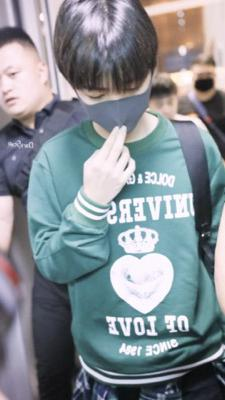with_mask: (77, 76, 152, 137), (192, 71, 215, 92)
without_mask: (0, 60, 38, 117), (148, 95, 177, 122)
